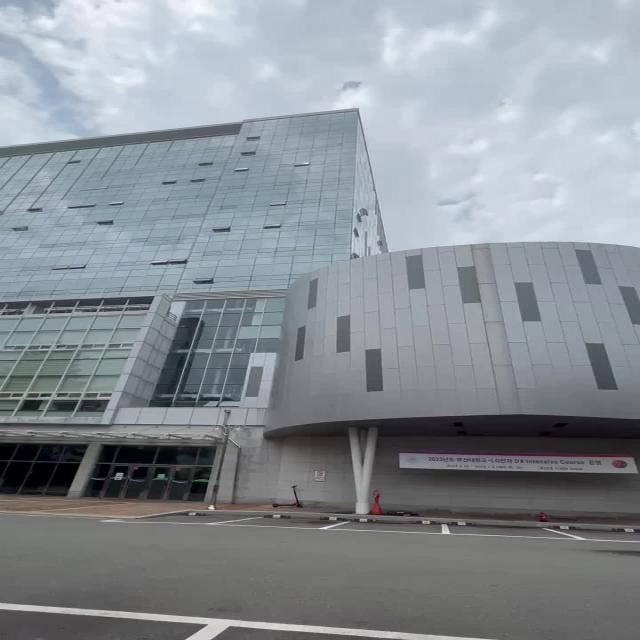building: (3, 128, 640, 447)
